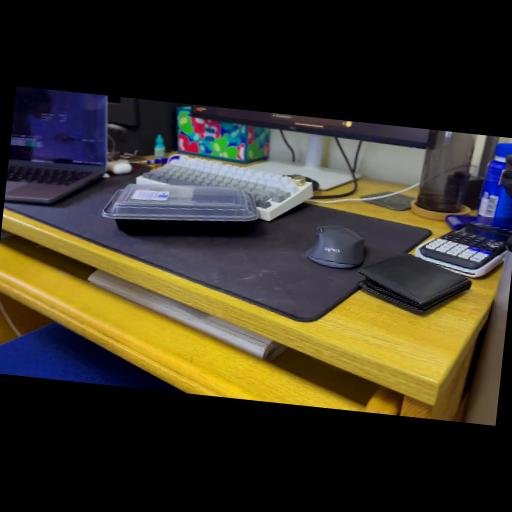rigid_plastic_container: (100, 168, 269, 252)
